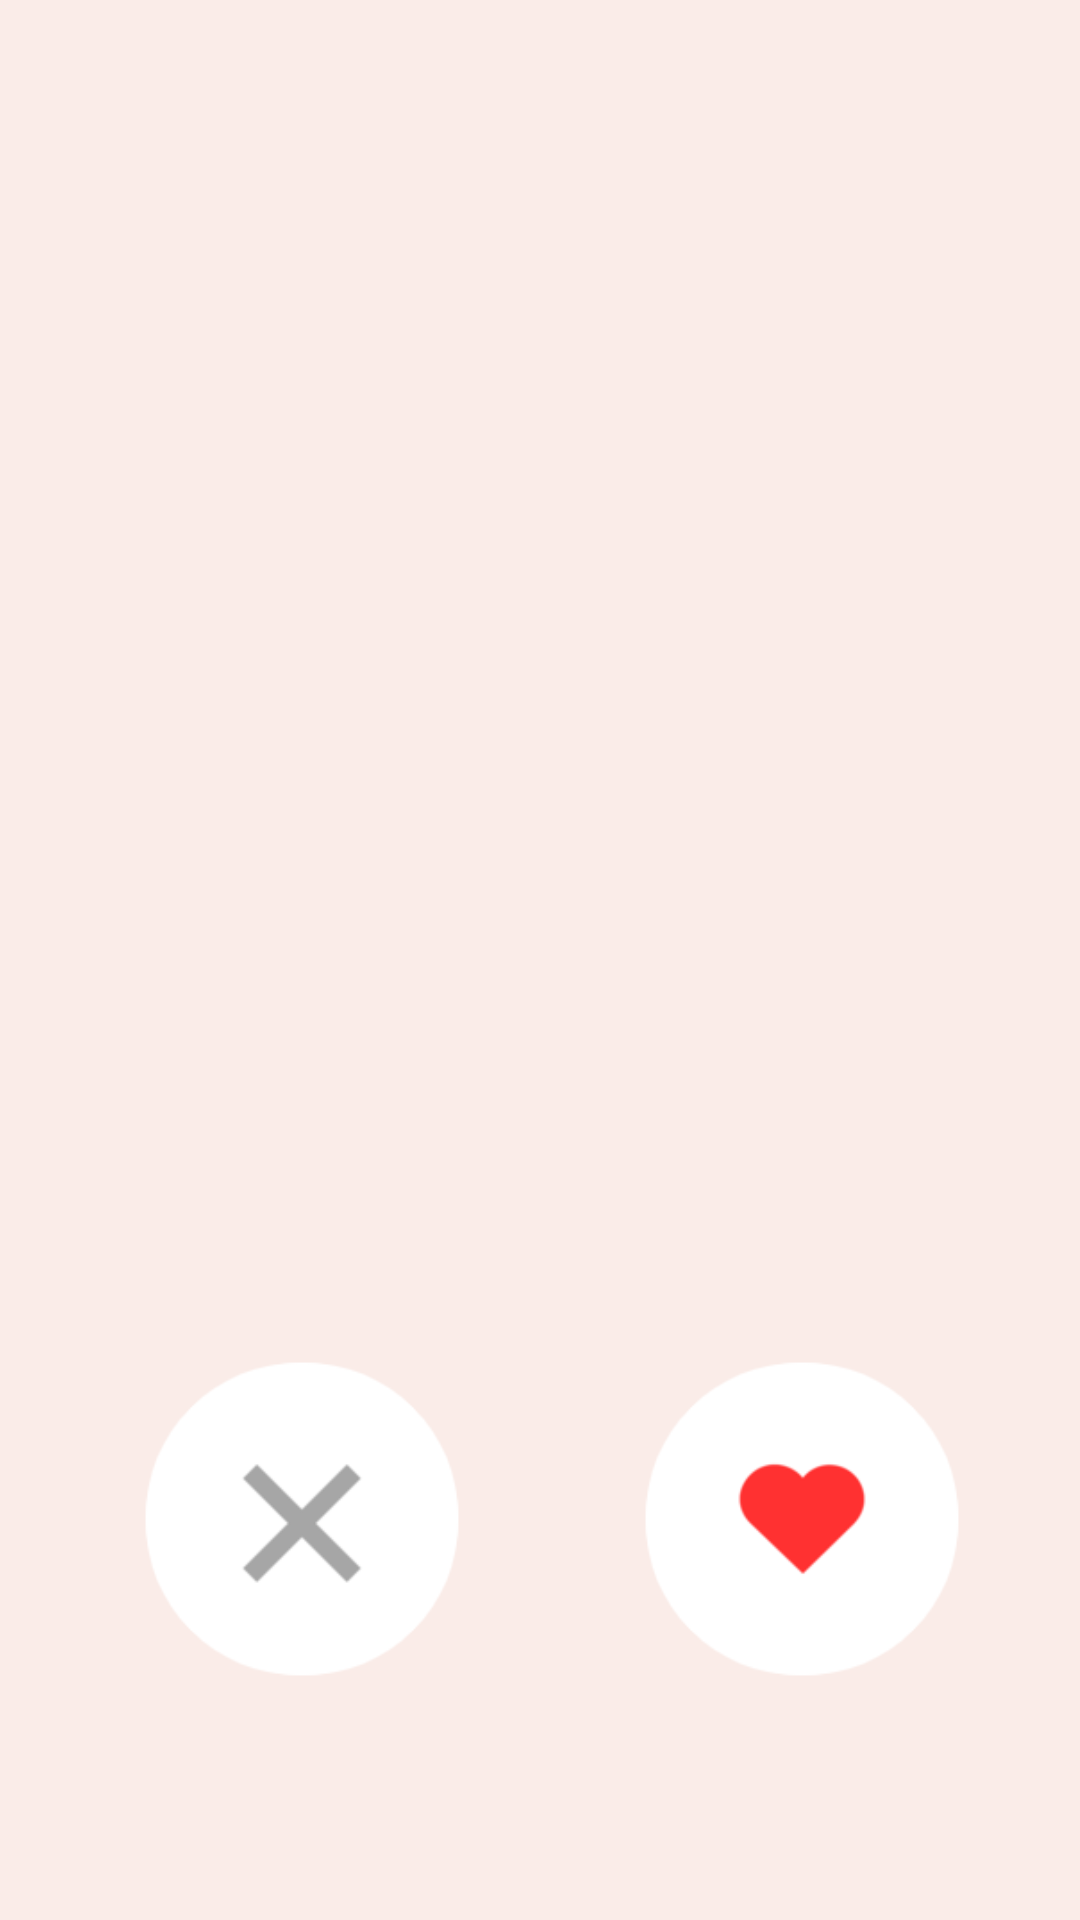

Icons on this 1080 x 1920 Android screen, each with the point to tap as [x,y]:
dislikebutton: [302,1519]
Like: [802,1519]
